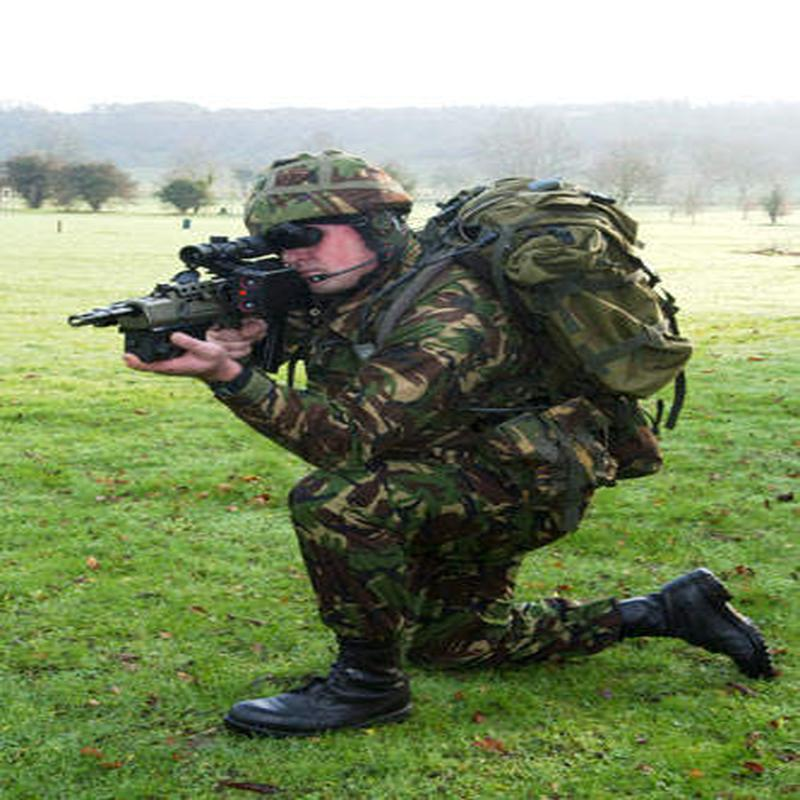GUN: (61, 224, 345, 383)
